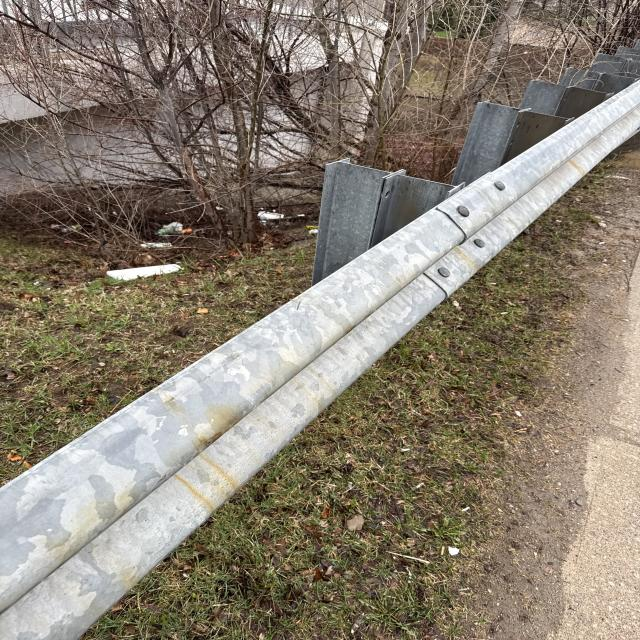Guard rail: (316, 94, 640, 279)
